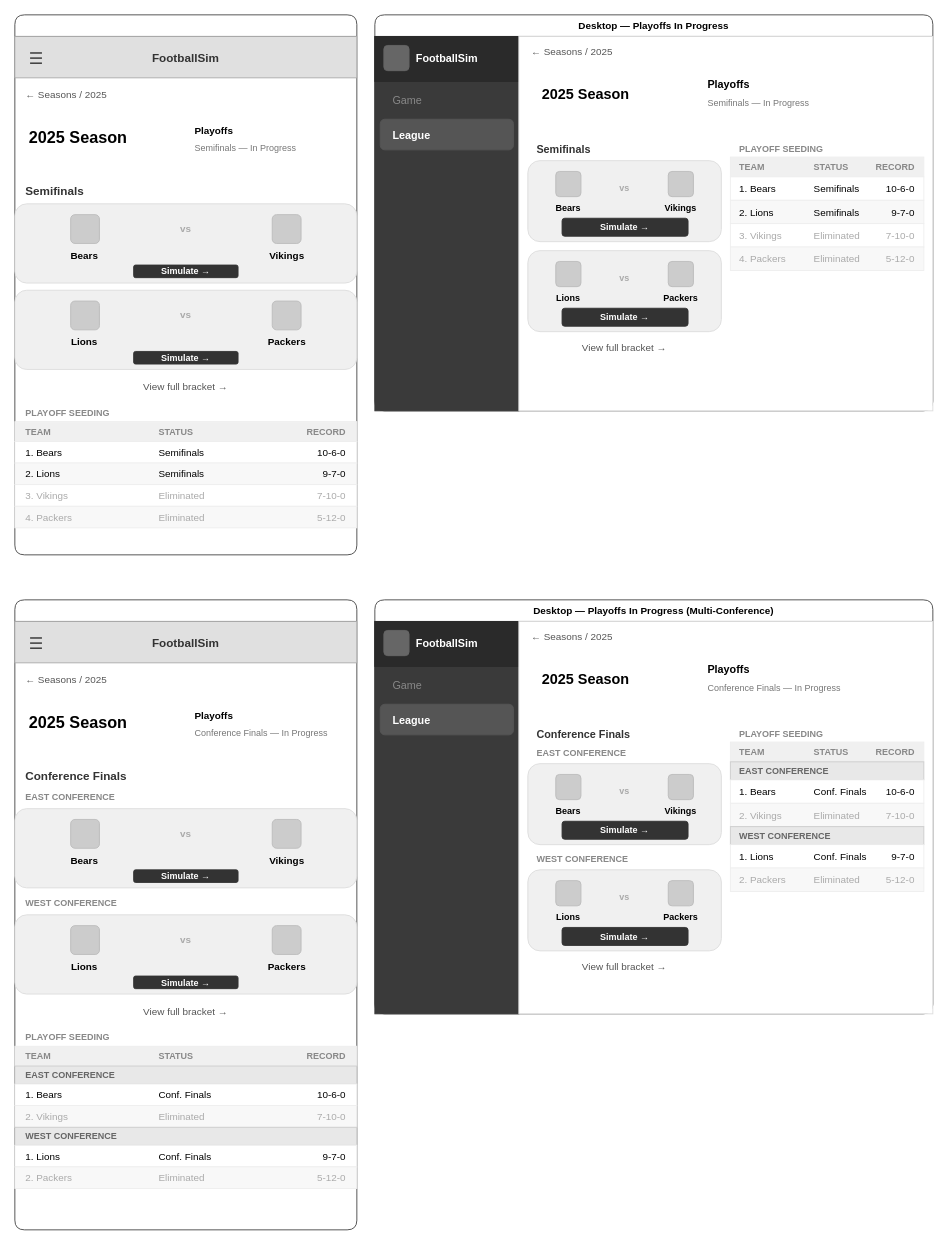
This 948x1245 diagram has some shape labels left out. The box of each missing label's shape, as (x1, y1, x2, y2) in pixels:
Mobile — Playoffs In Progress: (14, 14, 357, 555)
Mobile — Playoffs In Progress (Multi-Conference): (14, 599, 357, 1230)
